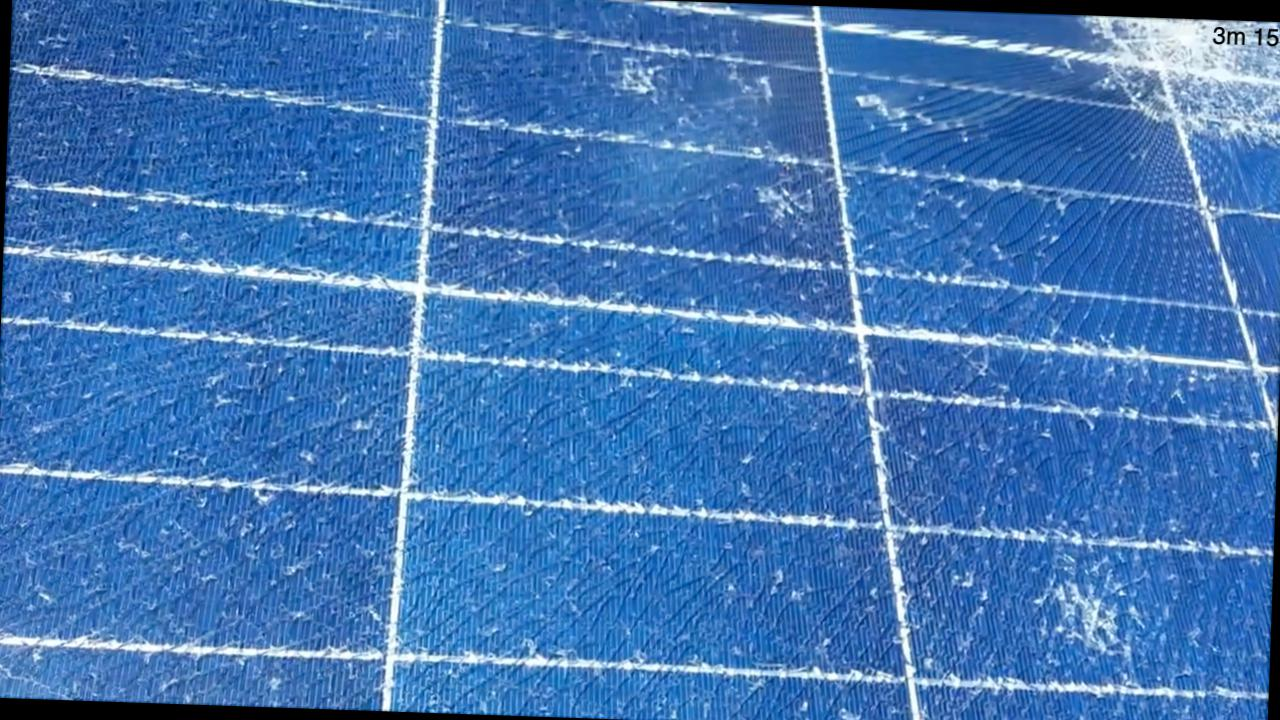Crack: (1002, 494, 1188, 670), (1092, 18, 1279, 138), (590, 31, 686, 114)
